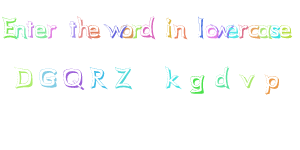D: (15, 66, 33, 89)
E: (1, 16, 17, 38)
G: (38, 67, 59, 88)
Q: (62, 67, 84, 90)
R: (90, 67, 108, 89)
Z: (115, 67, 132, 89)
a: (258, 25, 271, 38)
c: (249, 23, 260, 39)
d: (138, 15, 156, 39), (213, 66, 230, 89)
e: (226, 23, 239, 38), (34, 24, 47, 38), (88, 24, 100, 38), (279, 24, 291, 38)
g: (189, 74, 205, 95)
h: (77, 15, 89, 38)
i: (164, 17, 173, 37)
k: (164, 66, 182, 90)
l: (197, 15, 205, 38)
n: (13, 24, 27, 39), (173, 24, 187, 38)
o: (204, 24, 219, 38), (119, 24, 133, 37)
p: (264, 73, 279, 95)
r: (130, 24, 142, 38), (237, 23, 248, 38), (46, 24, 57, 38)
s: (270, 24, 280, 38)
t: (67, 20, 77, 37), (26, 20, 34, 37)
v: (239, 73, 255, 87)
w: (103, 23, 126, 38), (214, 23, 231, 38)
